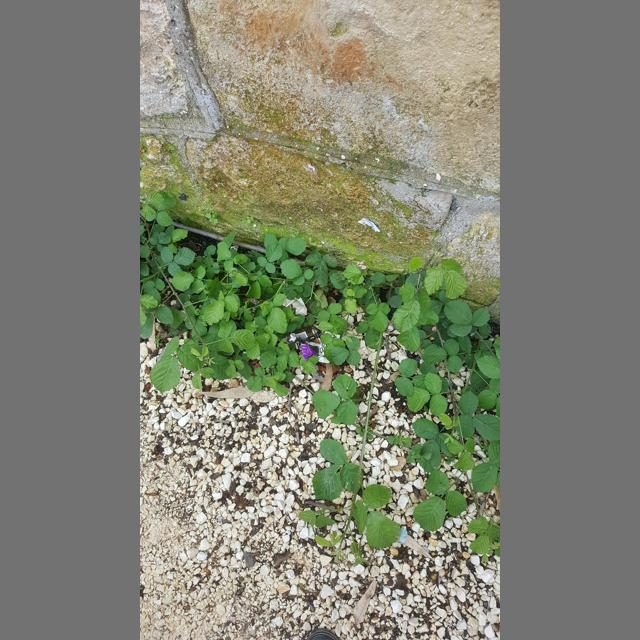litter: (284, 325, 340, 363), (284, 297, 308, 317), (358, 218, 380, 232), (399, 526, 407, 543), (252, 299, 262, 305)
